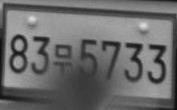3: (123, 41, 144, 83), (146, 43, 167, 84), (30, 35, 50, 75)
5: (78, 38, 99, 78)
7: (101, 39, 122, 81)
8: (7, 33, 28, 74)
무: (52, 44, 72, 77)
